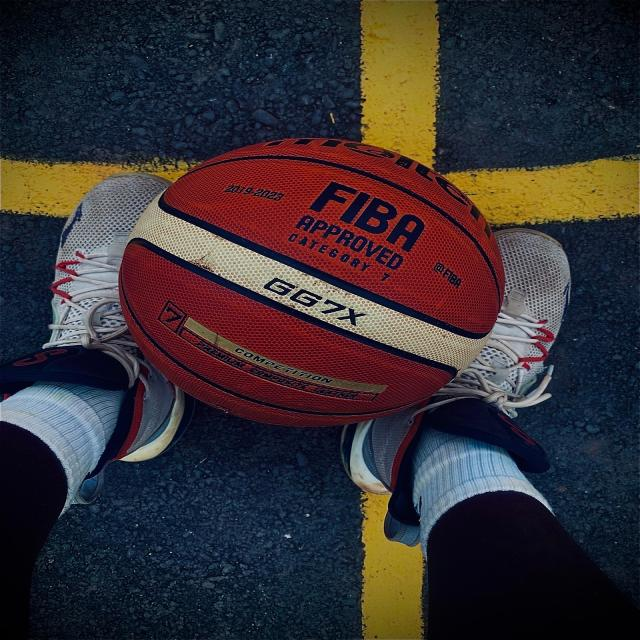Basketball: (116, 141, 515, 430)
